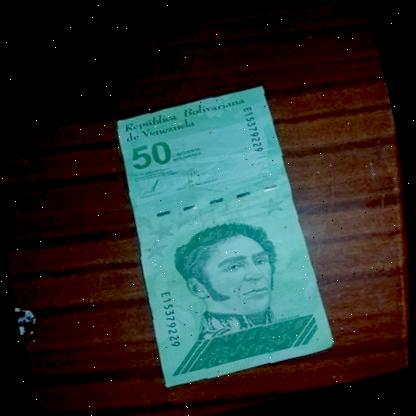fifty-front-vef: (102, 81, 341, 388)
